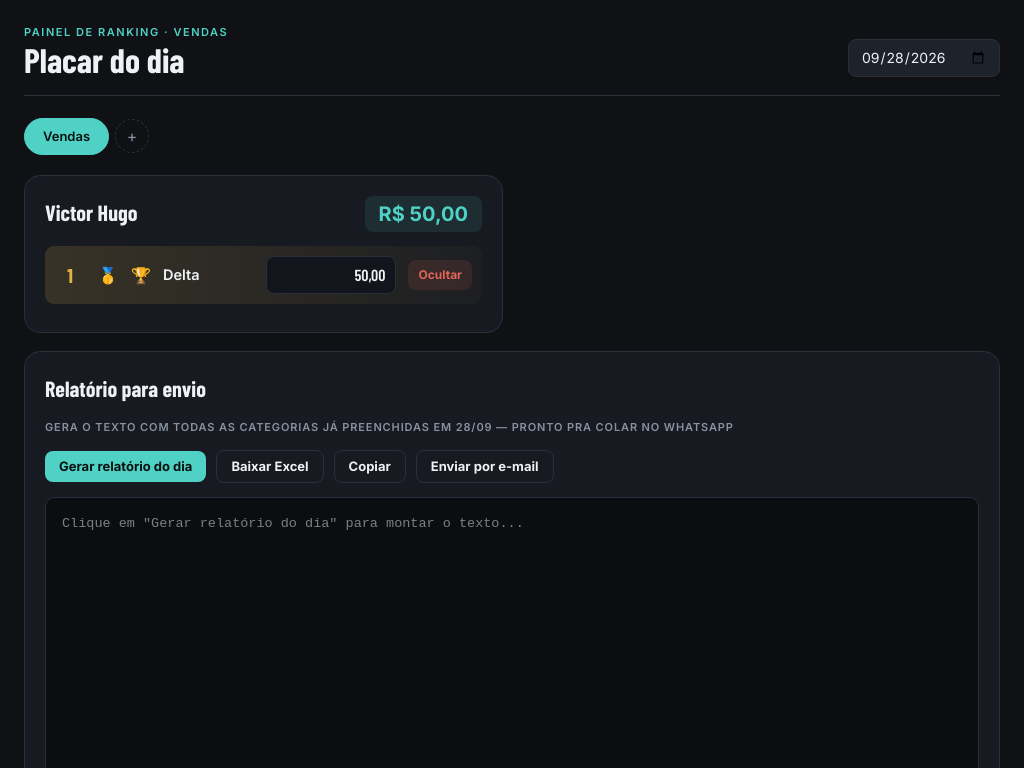
RankingPage — toggleRedeVisivel (clique em Ocultar, isAdmin:true) › se a promise rejeitar, o estado local NÃO muda e o flash de erro aparece
Click the button "Ocultar": (440, 275) x1=408 y1=260 x2=472 y2=290
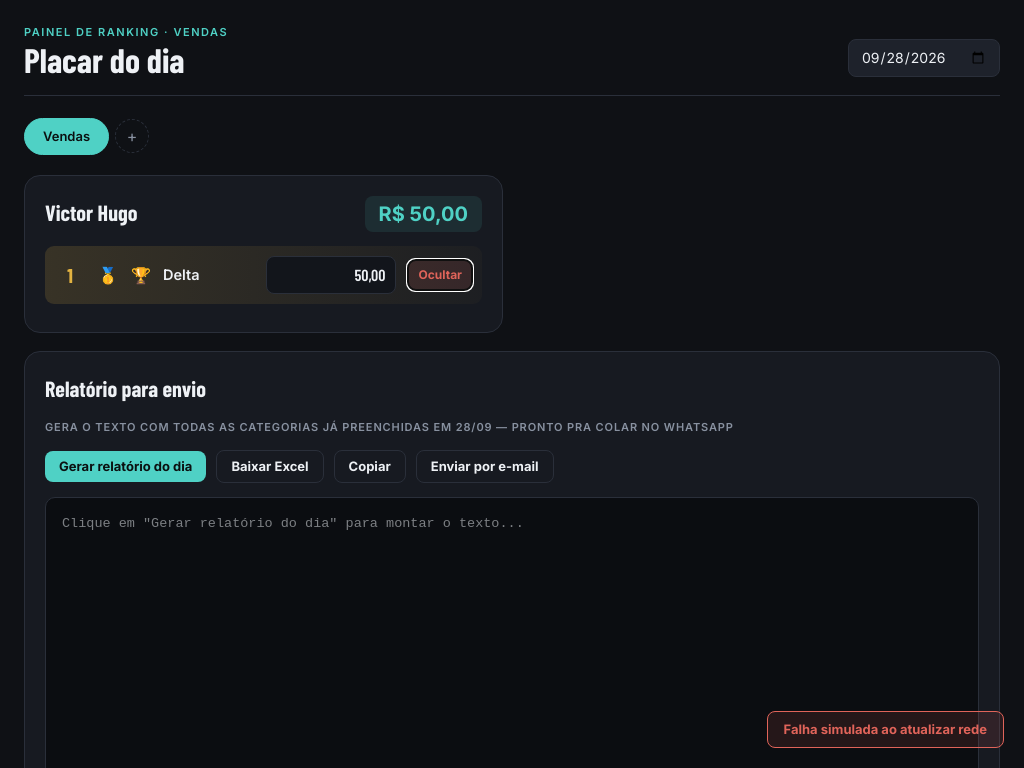
Expected: the text "Delta" is shown, x1=163 y1=266 x2=200 y2=283
Expected: the text "Falha simulada ao atualizar rede" is shown, x1=766 y1=710 x2=1004 y2=748
